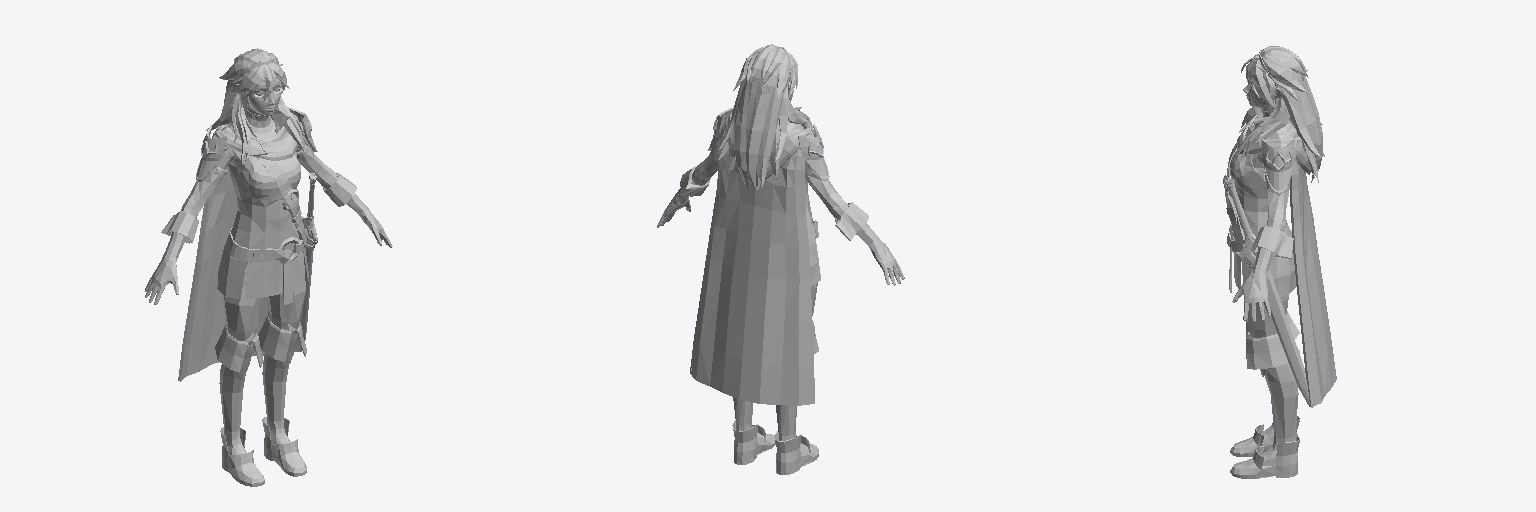
File: Lucina_LOD1.obj
3 renders of one model, left to right at view 1: azimuth 30°, elevation 25°; view 2: azimuth 150°, elevation 25°; view 3: azimuth 270°, elevation 25°, orthographic.
Visible parts, largest first — view 1: body, modelPanel4ViewSelectedSet1 body, modelPanel4ViewSelectedSet body, hair, face, sheeth; view 2: modelPanel4ViewSelectedSet body, hair, body, modelPanel4ViewSelectedSet1 body; view 3: body, modelPanel4ViewSelectedSet body, modelPanel4ViewSelectedSet1 body, hair, sheeth, falchion1.
Part boxes in pixels (x1,y1,x2,y2): body: (145, 58, 392, 304); modelPanel4ViewSelectedSet1 body: (215, 264, 306, 486); modelPanel4ViewSelectedSet body: (178, 113, 301, 381); hair: (206, 48, 304, 165); face: (233, 75, 281, 116); sheeth: (299, 235, 317, 350); modelPanel4ViewSelectedSet body: (690, 113, 814, 405); hair: (718, 45, 814, 190); body: (657, 44, 904, 285); modelPanel4ViewSelectedSet1 body: (732, 282, 818, 474); body: (1223, 50, 1296, 322); modelPanel4ViewSelectedSet body: (1237, 117, 1336, 407); modelPanel4ViewSelectedSet1 body: (1230, 294, 1299, 478); hair: (1237, 46, 1324, 182); sheeth: (1240, 252, 1313, 407); falchion1: (1224, 179, 1255, 258).
Bounding box in the file's own units: 8.4 × 13.89 × 3.46.